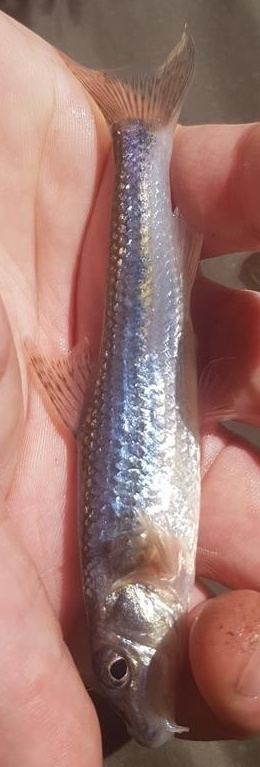Gobio gobio: (20, 20, 240, 747)
